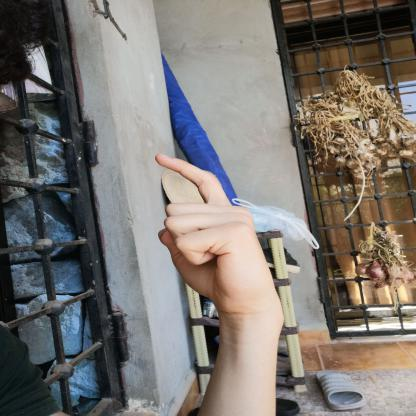RAA: (138, 145, 286, 318)
